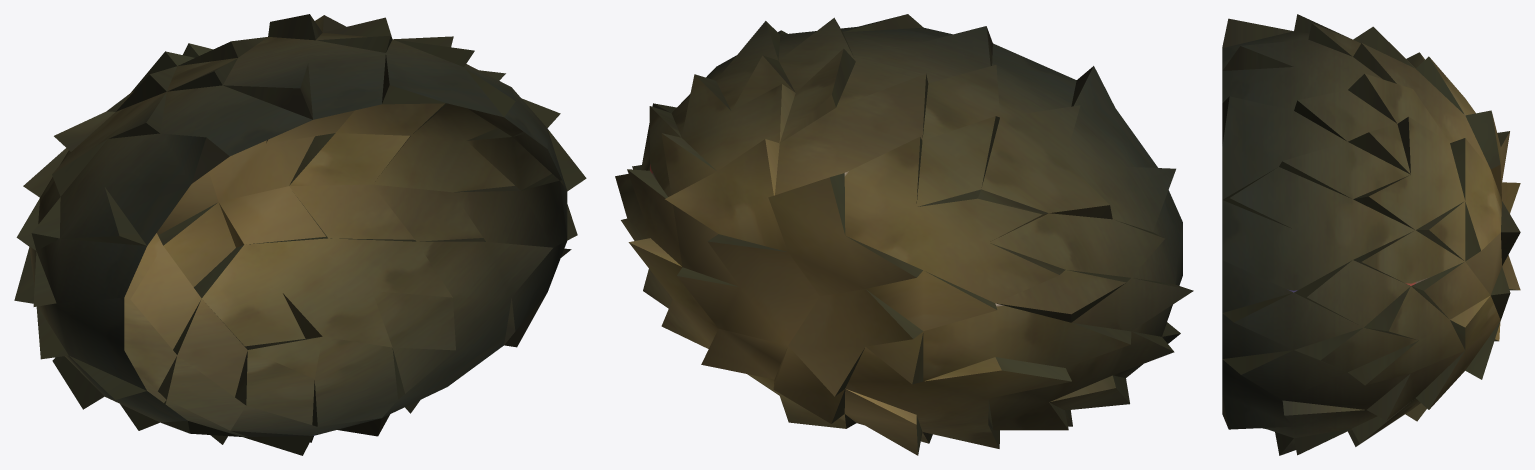
The model's file is Bush_D.fbx.
The picture shows the model from 3 angles, left to right: view 1: azimuth 30°, elevation 25°; view 2: azimuth 150°, elevation 25°; view 3: azimuth 270°, elevation 25°; orthographic projection. The views are drawn at different scales.
Parts seen in each view (by area): view 1: Bush_D; view 2: Bush_D; view 3: Bush_D.
Part boxes in pixels (x1,y1,x2,y2): Bush_D: (14,14,586,455); Bush_D: (615,14,1193,455); Bush_D: (1222,14,1520,455).
Size of the model in its own units: 111 by 76.02 by 56.13.
